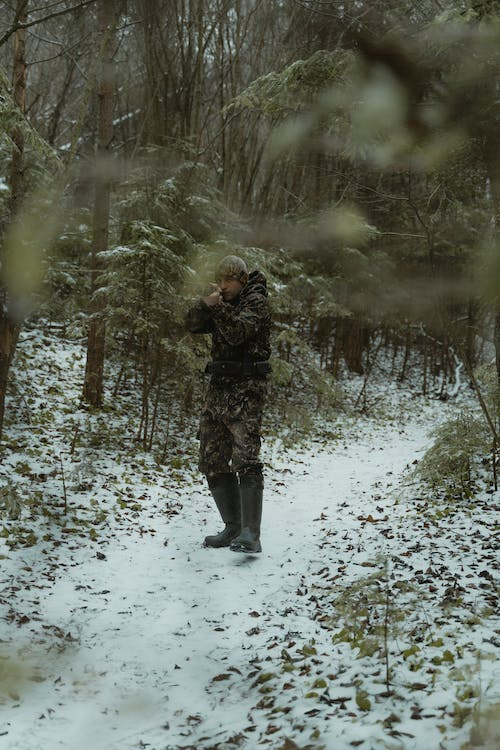gun: (179, 277, 218, 299)
